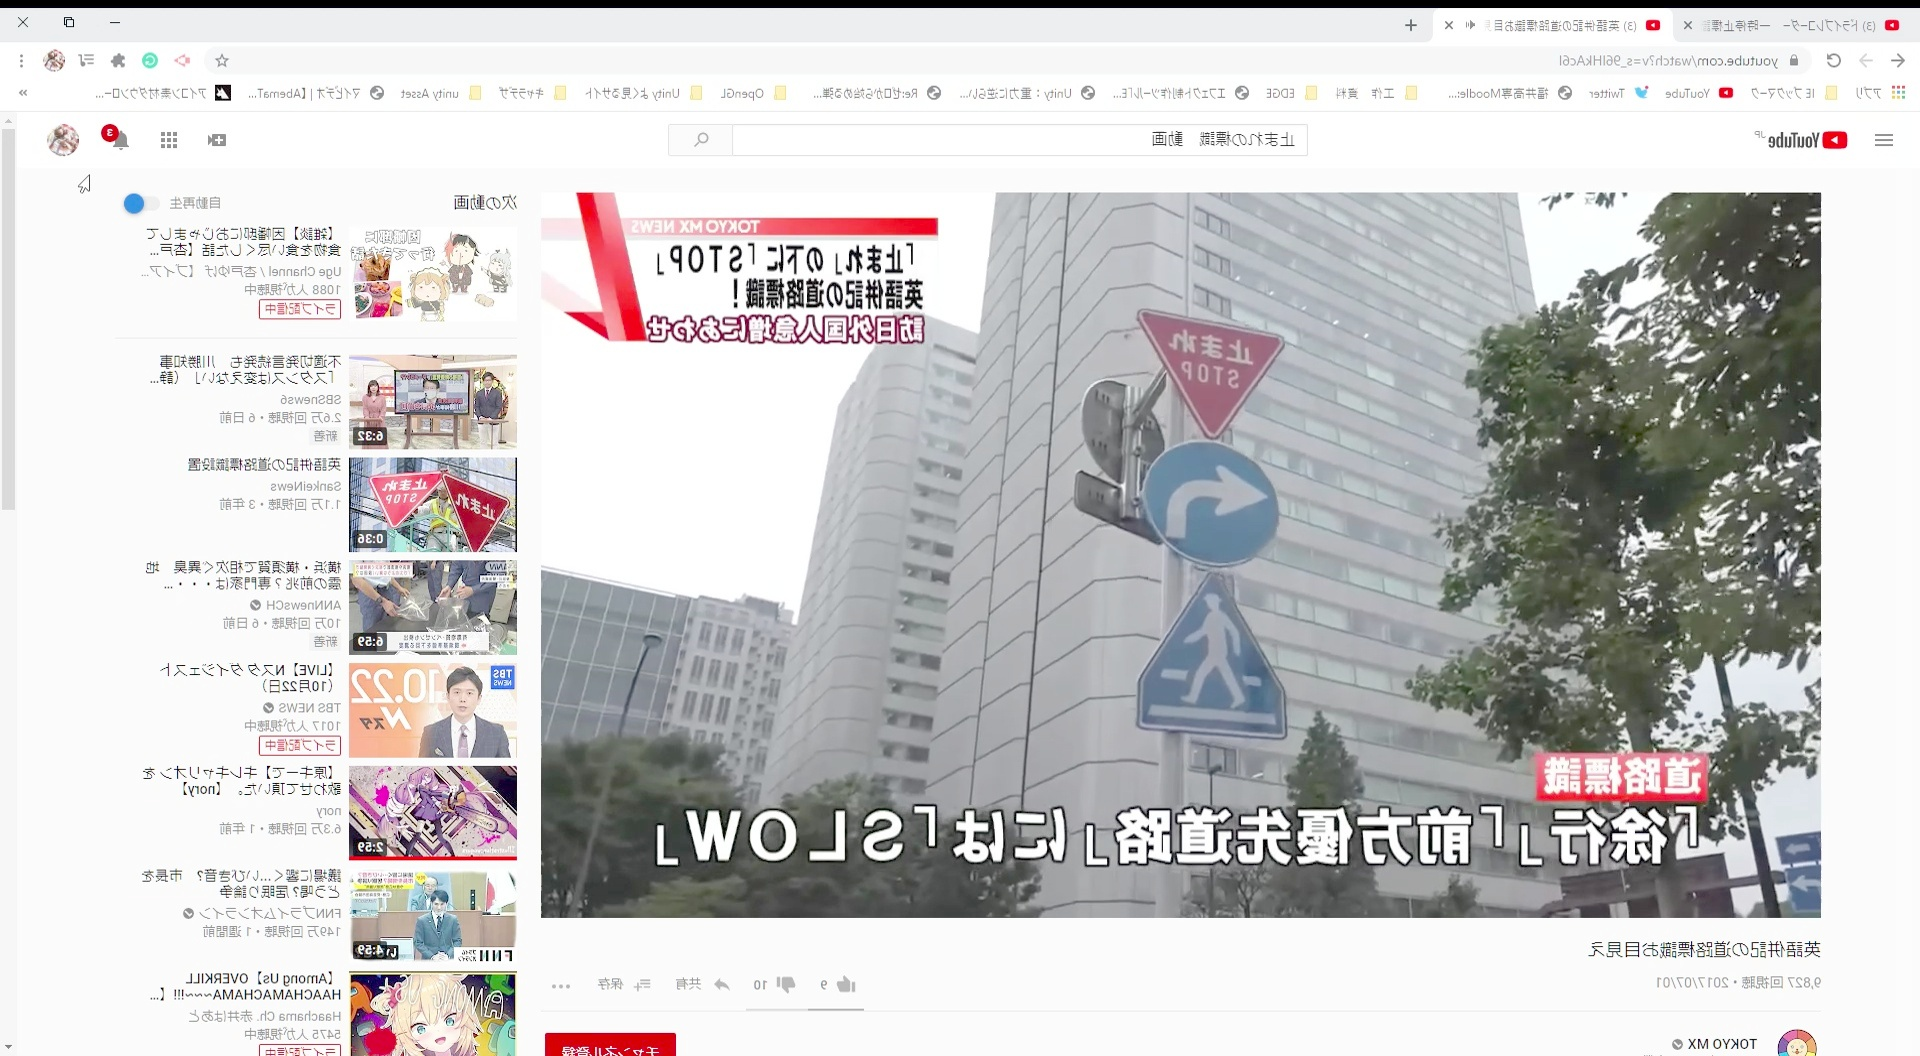Regulatory_sign_triangle: (1134, 298, 1303, 434)
